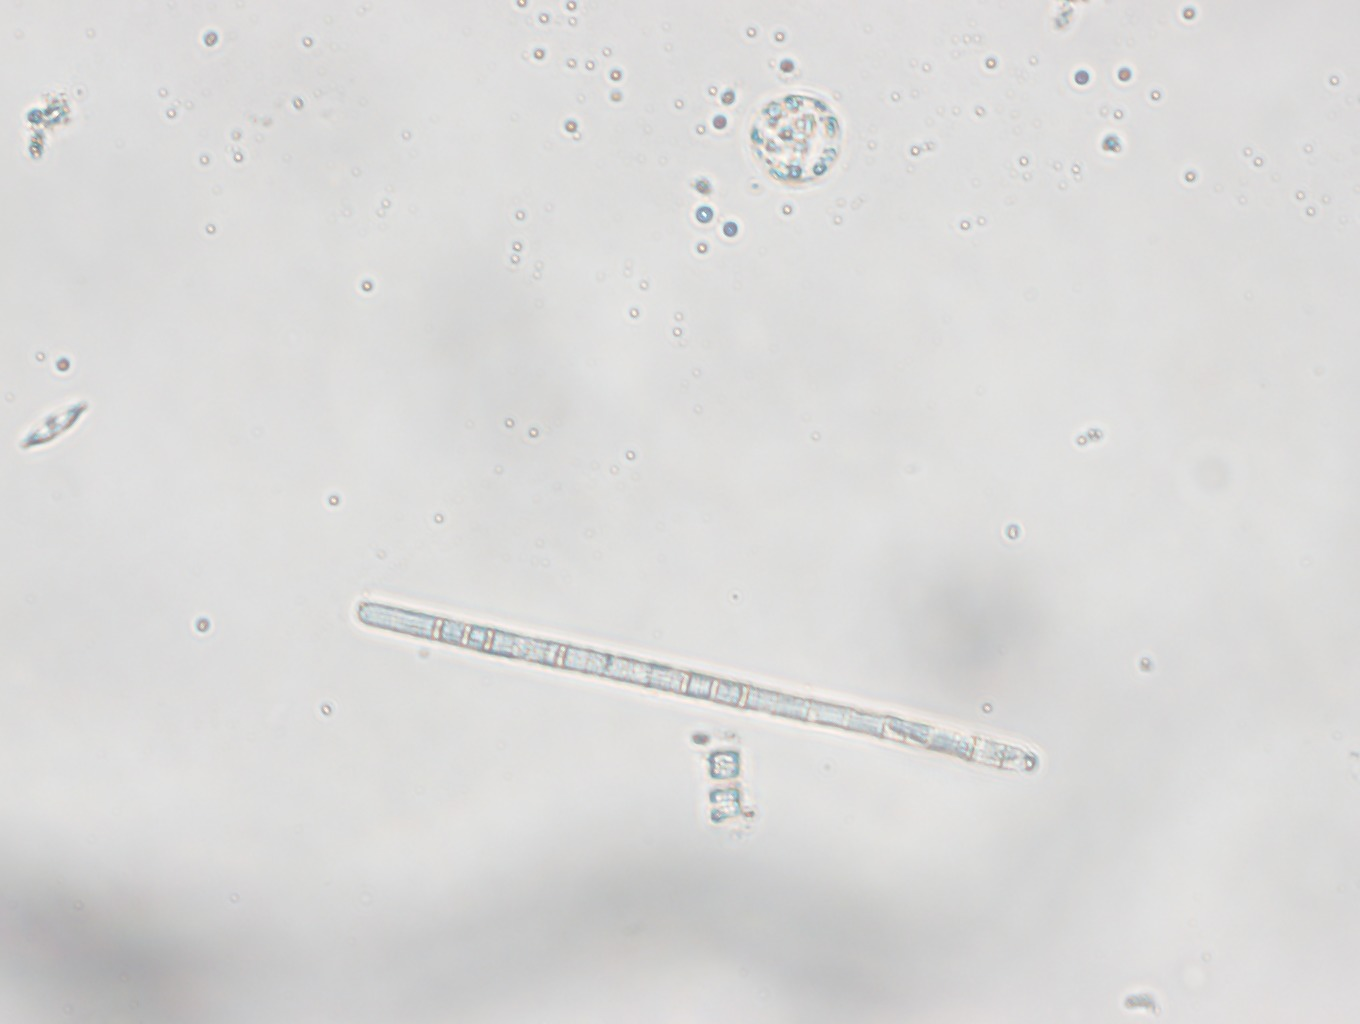navicula: (16, 394, 91, 459)
